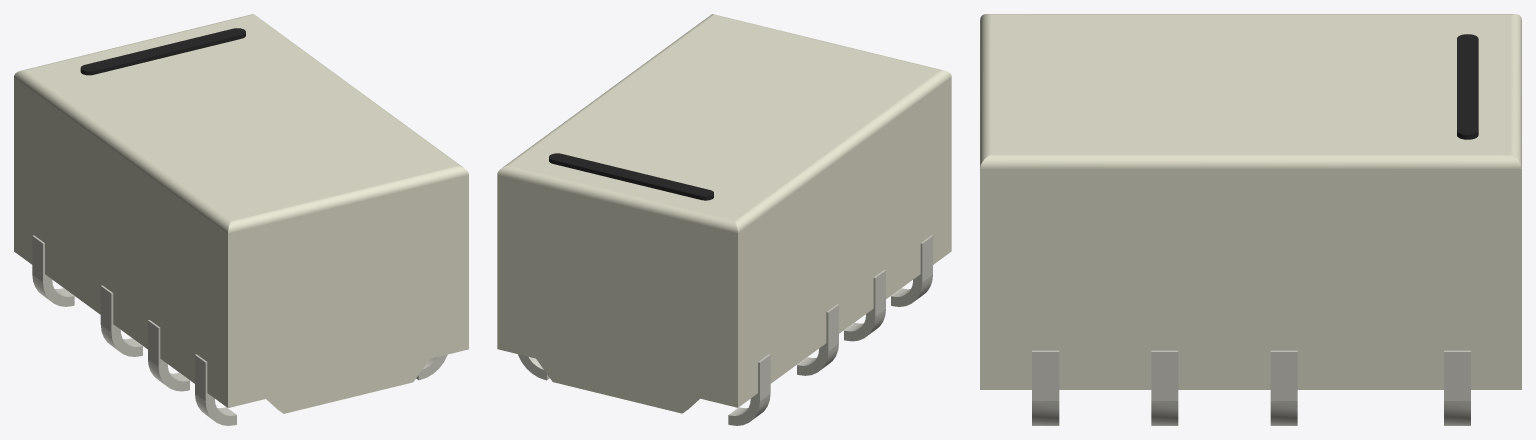
The model's file is kc-relay_dpdt_omron_g6k-2g-y.glb.
3 views of the same model, side by side, from view 1: azimuth 30°, elevation 25°; view 2: azimuth 150°, elevation 25°; view 3: azimuth 270°, elevation 25° (orthographic). The views are drawn at different scales.
Visible parts, largest first — view 1: 0.75_0.75_0.6666666666666666_0, 0.6666666666666666_0.6666666666666666_0.5833333333333334_0.8, 0_0_0_0; view 2: 0.75_0.75_0.6666666666666666_0, 0.6666666666666666_0.6666666666666666_0.5833333333333334_0.8, 0_0_0_0; view 3: 0.75_0.75_0.6666666666666666_0, 0.6666666666666666_0.6666666666666666_0.5833333333333334_0.8, 0_0_0_0.
Boxes of the visible parts, <box> form: 0.75_0.75_0.6666666666666666_0: <box>14,14,468,413</box>; 0.6666666666666666_0.6666666666666666_0.5833333333333334_0.8: <box>32,235,447,425</box>; 0_0_0_0: <box>80,28,245,75</box>; 0.75_0.75_0.6666666666666666_0: <box>497,14,951,413</box>; 0.6666666666666666_0.6666666666666666_0.5833333333333334_0.8: <box>518,235,932,425</box>; 0_0_0_0: <box>549,153,713,200</box>; 0.75_0.75_0.6666666666666666_0: <box>980,14,1521,389</box>; 0.6666666666666666_0.6666666666666666_0.5833333333333334_0.8: <box>1032,350,1470,425</box>; 0_0_0_0: <box>1457,34,1478,139</box>.
Size of the model in its own units: 0.66 by 0.58 by 1.
